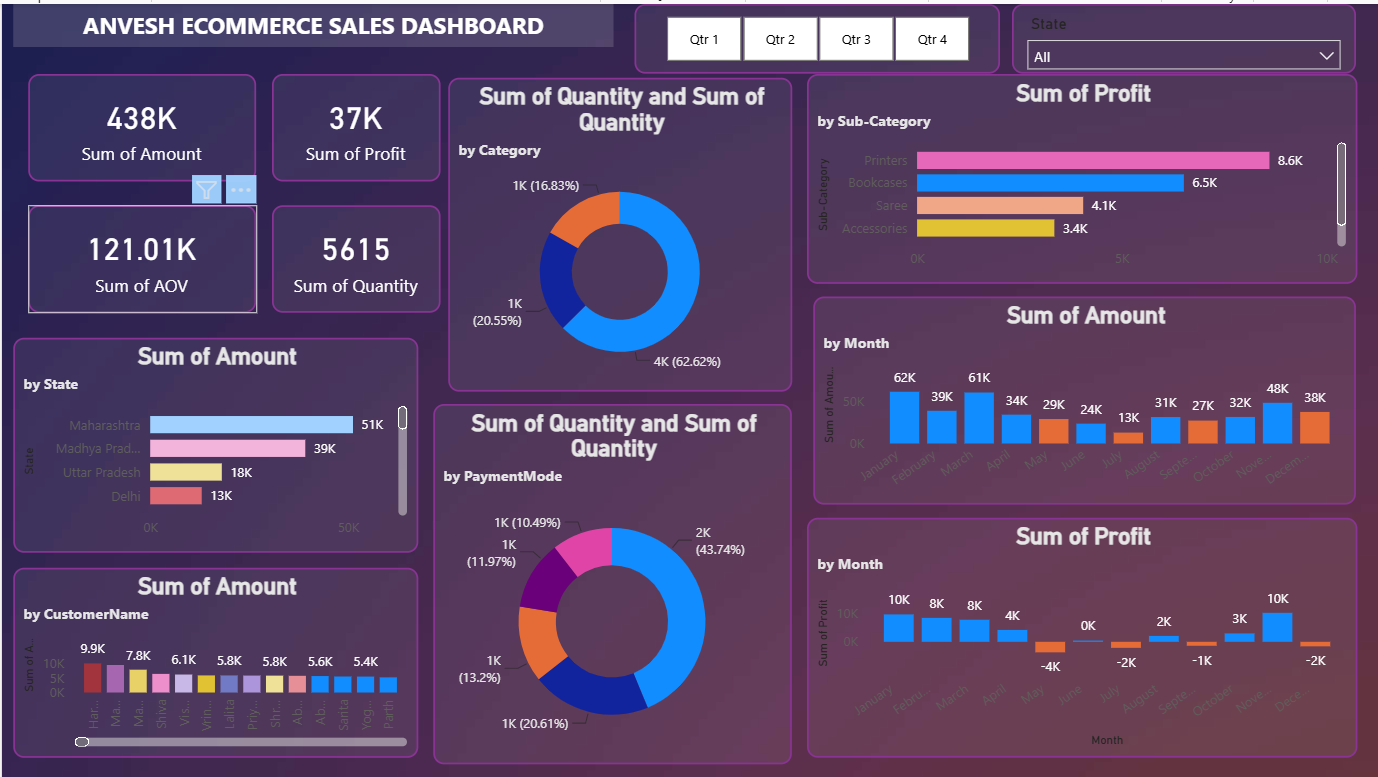

Layout of this report page (visuals, bound fields, positions):
{"tool":"powerbi","page":{"name":"Page 1","canvas":[1280,720],"ordinal":0},"visuals":[{"type":"textbox","box":[10,0,558.3,40],"z":0},{"type":"columnChart","fields":{"Category":["Orders.Order Date.Variation.Date Hierarchy.Month"],"Y":["Sum(Details.Profit)"]},"box":[748.3,478.3,511.7,223.3],"z":1000},{"type":"columnChart","fields":{"Category":["Orders.Order Date.Variation.Date Hierarchy.Month"],"Y":["Sum(Details.Amount)"]},"box":[755,271.7,505,193.3],"z":2000},{"type":"clusteredBarChart","fields":{"Category":["Details.Sub-Category"],"Y":["Sum(Details.Profit)"]},"box":[748.3,65,511.7,195],"z":3000},{"type":"donutChart","fields":{"Category":["Details.Category"],"Y":["Sum(Details.Quantity)","Sum(Details.Quantity)"]},"box":[415,68.3,320,291.7],"z":4000},{"type":"donutChart","fields":{"Category":["Details.PaymentMode"],"Y":["Sum(Details.Quantity)","Sum(Details.Quantity)"]},"box":[401.7,371.7,333.3,335],"z":5000},{"type":"card","fields":{"Values":["Sum(Details.Amount)"]},"box":[25,65,211.7,100],"z":6000},{"type":"card","fields":{"Values":["Sum(Details.Profit)"]},"box":[251.7,65,156.7,100],"z":7000},{"type":"card","fields":{"Values":["Sum(Details.Quantity)"]},"box":[251.7,186.7,156.7,100],"z":8000},{"type":"card","fields":{"Values":["Sum(Details.AOV)"]},"box":[25,186.7,211.7,100],"z":9000},{"type":"clusteredBarChart","fields":{"Category":["Orders.State"],"Y":["Sum(Details.Amount)"]},"box":[10,310,376.7,200],"z":10000},{"type":"columnChart","fields":{"Category":["Orders.CustomerName"],"Y":["Sum(Details.Amount)"]},"box":[10,525,376.7,176.7],"z":11000},{"type":"slicer","fields":{"Values":["Orders.Order Date.Variation.Date Hierarchy.Quarter"]},"box":[588.3,0,340,65],"z":12000},{"type":"slicer","fields":{"Values":["Orders.State"]},"box":[940,0,320,65],"z":13000}]}

Visuals, with their boxes in screenshot pixels (x1, y1, x2, y2), scaled from the page's 1280x720 canvas onto the 1378x777 screenshot:
textbox: {"x1": 11, "y1": 0, "x2": 612, "y2": 43}
columnChart - Orders.Order Date.Variation.Date Hierarchy.Month x Sum(Details.Profit): {"x1": 806, "y1": 516, "x2": 1356, "y2": 757}
columnChart - Orders.Order Date.Variation.Date Hierarchy.Month x Sum(Details.Amount): {"x1": 813, "y1": 293, "x2": 1356, "y2": 502}
clusteredBarChart - Details.Sub-Category x Sum(Details.Profit): {"x1": 806, "y1": 70, "x2": 1356, "y2": 281}
donutChart - Details.Category x Sum(Details.Quantity): {"x1": 447, "y1": 74, "x2": 791, "y2": 388}
donutChart - Details.PaymentMode x Sum(Details.Quantity): {"x1": 432, "y1": 401, "x2": 791, "y2": 763}
card - Sum(Details.Amount): {"x1": 27, "y1": 70, "x2": 255, "y2": 178}
card - Sum(Details.Profit): {"x1": 271, "y1": 70, "x2": 440, "y2": 178}
card - Sum(Details.Quantity): {"x1": 271, "y1": 201, "x2": 440, "y2": 309}
card - Sum(Details.AOV): {"x1": 27, "y1": 201, "x2": 255, "y2": 309}
clusteredBarChart - Orders.State x Sum(Details.Amount): {"x1": 11, "y1": 335, "x2": 416, "y2": 550}
columnChart - Orders.CustomerName x Sum(Details.Amount): {"x1": 11, "y1": 567, "x2": 416, "y2": 757}
slicer - Orders.Order Date.Variation.Date Hierarchy.Quarter: {"x1": 633, "y1": 0, "x2": 999, "y2": 70}
slicer - Orders.State: {"x1": 1012, "y1": 0, "x2": 1356, "y2": 70}
